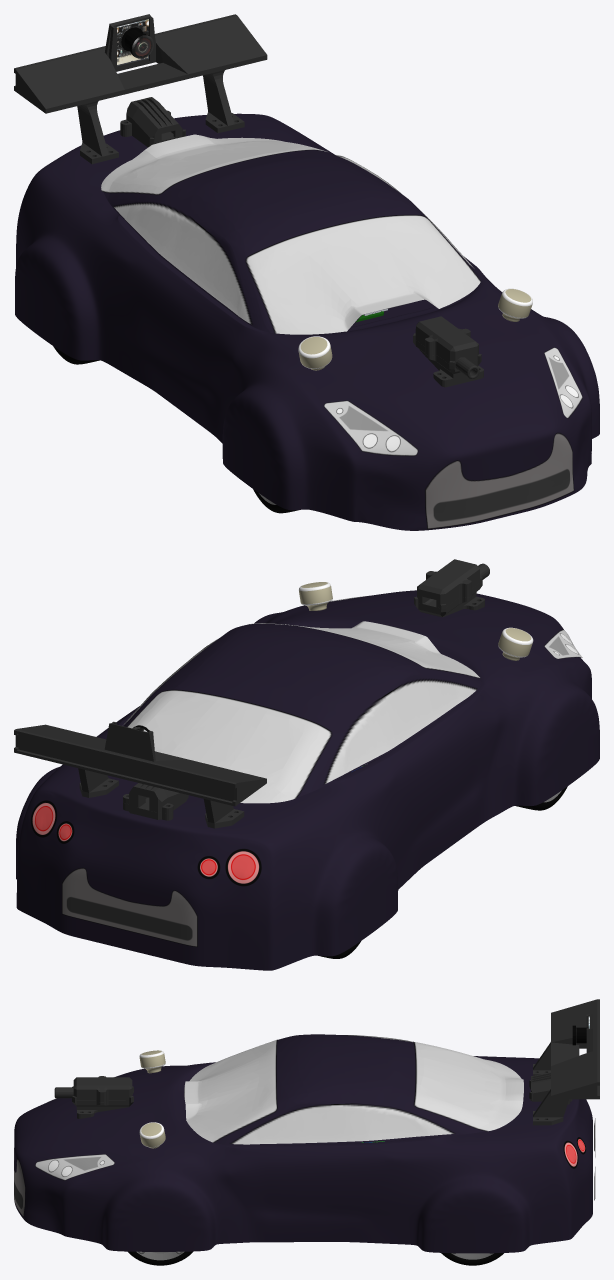
Rendered from assembly.glb.
The picture shows the model from 3 angles, top to bottom: view 1: azimuth 30°, elevation 25°; view 2: azimuth 150°, elevation 25°; view 3: azimuth 270°, elevation 25°; orthographic projection. The views are drawn at different scales.
Parts seen in each view (by area): view 1: Plane.059, BAM_Decal_Окно, Plane.060, Cube.054, BAM_Decal_бампер, BAM_Decal_Окно боковое, BAM_Decal_Окно.001, BAM_Decal_Фара-1, Plane.055, Cylinder.012, Plane.057, Plane.061 (+1 smaller); view 2: Plane.059, Plane.060, BAM_Decal_Окно.001, Cube.054, BAM_Decal_Окно боковое, BAM_Decal_бампер.001, BAM_Decal_Окно, BAM_Decal_Фара задняя, Plane.055, Cylinder.012, Plane.057, Plane.056 (+2 smaller); view 3: Plane.059, Plane.060, BAM_Decal_Окно.001, BAM_Decal_Окно, BAM_Decal_Окно боковое, Cube.054, Plane.055, BAM_Decal_Фара-1, Cylinder.012, Plane.056, BAM_Decal_бампер, BAM_Decal_Фара задняя (+1 smaller).
Boxes of the visible parts, <box> form: Plane.059: <box>15,113,599,530</box>; BAM_Decal_Окно: <box>245,215,480,334</box>; Plane.060: <box>103,150,479,333</box>; Cube.054: <box>14,14,267,164</box>; BAM_Decal_бампер: <box>425,432,573,529</box>; BAM_Decal_Окно боковое: <box>113,155,474,324</box>; BAM_Decal_Окно.001: <box>101,134,328,195</box>; BAM_Decal_Фара-1: <box>324,347,582,456</box>; Plane.055: <box>415,316,479,374</box>; Cylinder.012: <box>298,288,532,370</box>; Plane.057: <box>120,97,182,142</box>; Plane.061: <box>117,19,153,66</box>; Plane.059: <box>16,590,599,970</box>; Plane.060: <box>124,624,481,803</box>; BAM_Decal_Окно.001: <box>127,689,332,803</box>; Cube.054: <box>14,721,266,828</box>; BAM_Decal_Окно боковое: <box>122,639,477,784</box>; BAM_Decal_бампер.001: <box>62,868,197,946</box>; BAM_Decal_Окно: <box>248,621,480,678</box>; BAM_Decal_Фара задняя: <box>31,800,261,886</box>; Plane.055: <box>417,559,489,607</box>; Cylinder.012: <box>299,582,533,660</box>; Plane.057: <box>123,783,185,813</box>; Plane.056: <box>414,572,489,617</box>; Plane.059: <box>14,1056,592,1265</box>; Plane.060: <box>214,1034,524,1145</box>; BAM_Decal_Окно.001: <box>413,1041,523,1131</box>; BAM_Decal_Окно: <box>184,1039,277,1142</box>; BAM_Decal_Окно боковое: <box>230,1035,455,1144</box>; Cube.054: <box>533,999,599,1125</box>; Plane.055: <box>54,1076,132,1102</box>; BAM_Decal_Фара-1: <box>35,1098,114,1180</box>; Cylinder.012: <box>139,1050,165,1148</box>; Plane.056: <box>54,1086,133,1118</box>; BAM_Decal_бампер: <box>14,1148,25,1216</box>; BAM_Decal_Фара задняя: <box>563,1137,586,1168</box>.
Size of the model in its own units: 0.2388 by 0.1742 by 0.4796.
Materials: 47 (6 with a texture image).
